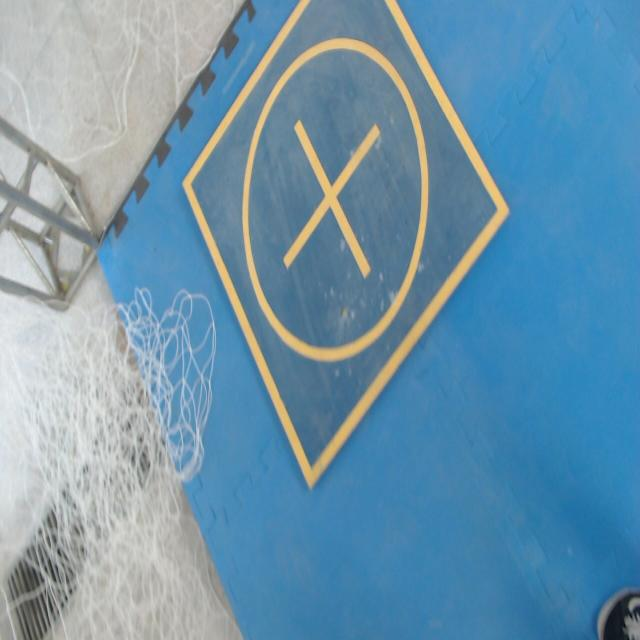base_pouso: (181, 0, 512, 493)
